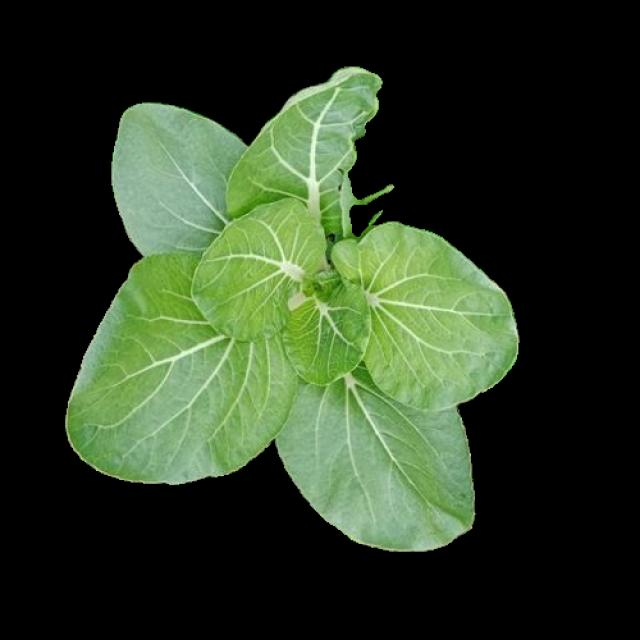mature: (65, 66, 516, 550)
unhealthy: (224, 66, 387, 258)
